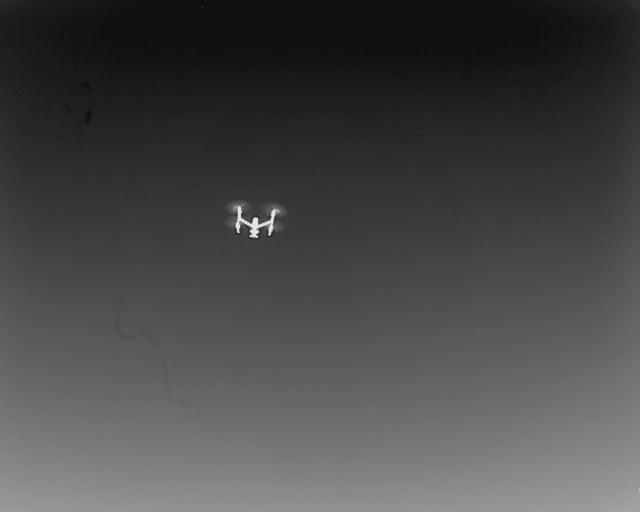drone: (224, 194, 286, 250)
